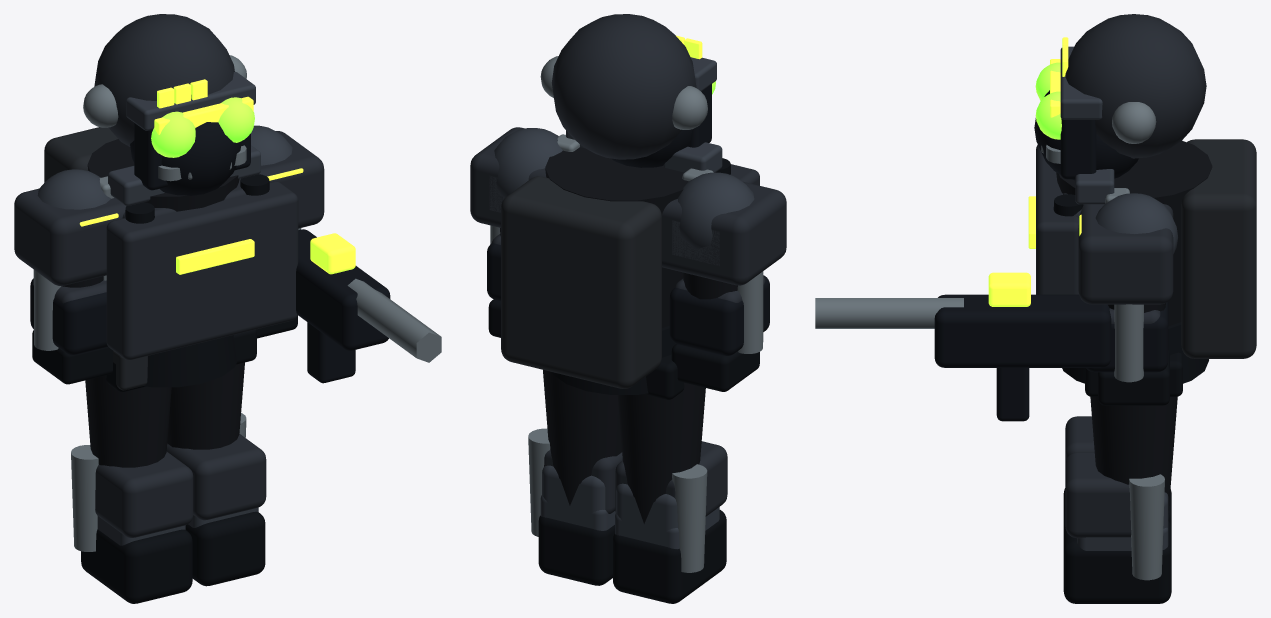
The model's file is sentinel_l03.glb.
3 views of the same model, side by side, from view 1: azimuth 30°, elevation 25°; view 2: azimuth 150°, elevation 25°; view 3: azimuth 270°, elevation 25° (orthographic). The views are drawn at different scales.
Parts seen in each view (by area): view 1: tactical_chest_plate, shaped_knee_guard (×2), trouser (×2), boot (×2), broad_shoulder_guard (×2), rounded_helmet, heavy_carbine, enclosed_mask, waist_flex, shoulder_joint (×2), heavy_barrel, forearm_guard (+18 smaller); view 2: field_pack, rounded_helmet, trouser (×2), broad_shoulder_guard (×2), boot (×2), shoulder_joint (×2), body, forearm_guard (×2), shin_frame (×2), knee_plate (×2), glove (×2), shaped_knee_guard (×2) (+11 smaller); view 3: field_pack, rounded_helmet, heavy_carbine, broad_shoulder_guard, trouser, shaped_knee_guard (×2), boot, body, tactical_chest_plate, heavy_barrel, shin_frame, shoulder_joint (+15 smaller).
Boxes of the visible parts, bbox=[...] form: tactical_chest_plate: bbox=[106, 181, 298, 360]; shaped_knee_guard (×2): bbox=[95, 434, 266, 537]; trouser (×2): bbox=[85, 362, 244, 467]; boot (×2): bbox=[81, 511, 265, 603]; broad_shoulder_guard (×2): bbox=[14, 131, 324, 285]; rounded_helmet: bbox=[94, 14, 234, 146]; heavy_carbine: bbox=[296, 229, 390, 350]; enclosed_mask: bbox=[130, 122, 241, 195]; waist_flex: bbox=[144, 335, 236, 387]; shoulder_joint (×2): bbox=[37, 125, 292, 209]; heavy_barrel: bbox=[347, 278, 441, 362]; forearm_guard: bbox=[30, 278, 107, 354]; field_pack: bbox=[501, 176, 661, 388]; rounded_helmet: bbox=[551, 14, 696, 159]; trouser (×2): bbox=[543, 370, 705, 523]; broad_shoulder_guard (×2): bbox=[470, 127, 786, 285]; boot (×2): bbox=[538, 510, 726, 603]; shoulder_joint (×2): bbox=[494, 128, 754, 248]; body: bbox=[545, 147, 688, 327]; forearm_guard (×2): bbox=[487, 243, 769, 355]; shin_frame (×2): bbox=[528, 428, 707, 572]; knee_plate (×2): bbox=[542, 465, 677, 545]; glove (×2): bbox=[488, 299, 759, 391]; shaped_knee_guard (×2): bbox=[544, 441, 727, 516]; field_pack: bbox=[1181, 139, 1256, 358]; rounded_helmet: bbox=[1065, 14, 1206, 158]; heavy_carbine: bbox=[934, 294, 1111, 367]; broad_shoulder_guard: bbox=[1078, 204, 1173, 304]; trouser: bbox=[1090, 396, 1177, 514]; shaped_knee_guard (×2): bbox=[1065, 416, 1131, 538]; boot: bbox=[1063, 521, 1171, 603]; body: bbox=[1056, 140, 1212, 326]; tactical_chest_plate: bbox=[1036, 145, 1078, 294]; heavy_barrel: bbox=[815, 298, 963, 328]; shin_frame: bbox=[1129, 474, 1164, 580]; shoulder_joint: bbox=[1095, 193, 1177, 253].
Size of the model in its own units: 0.975 by 1.87 by 1.35.
